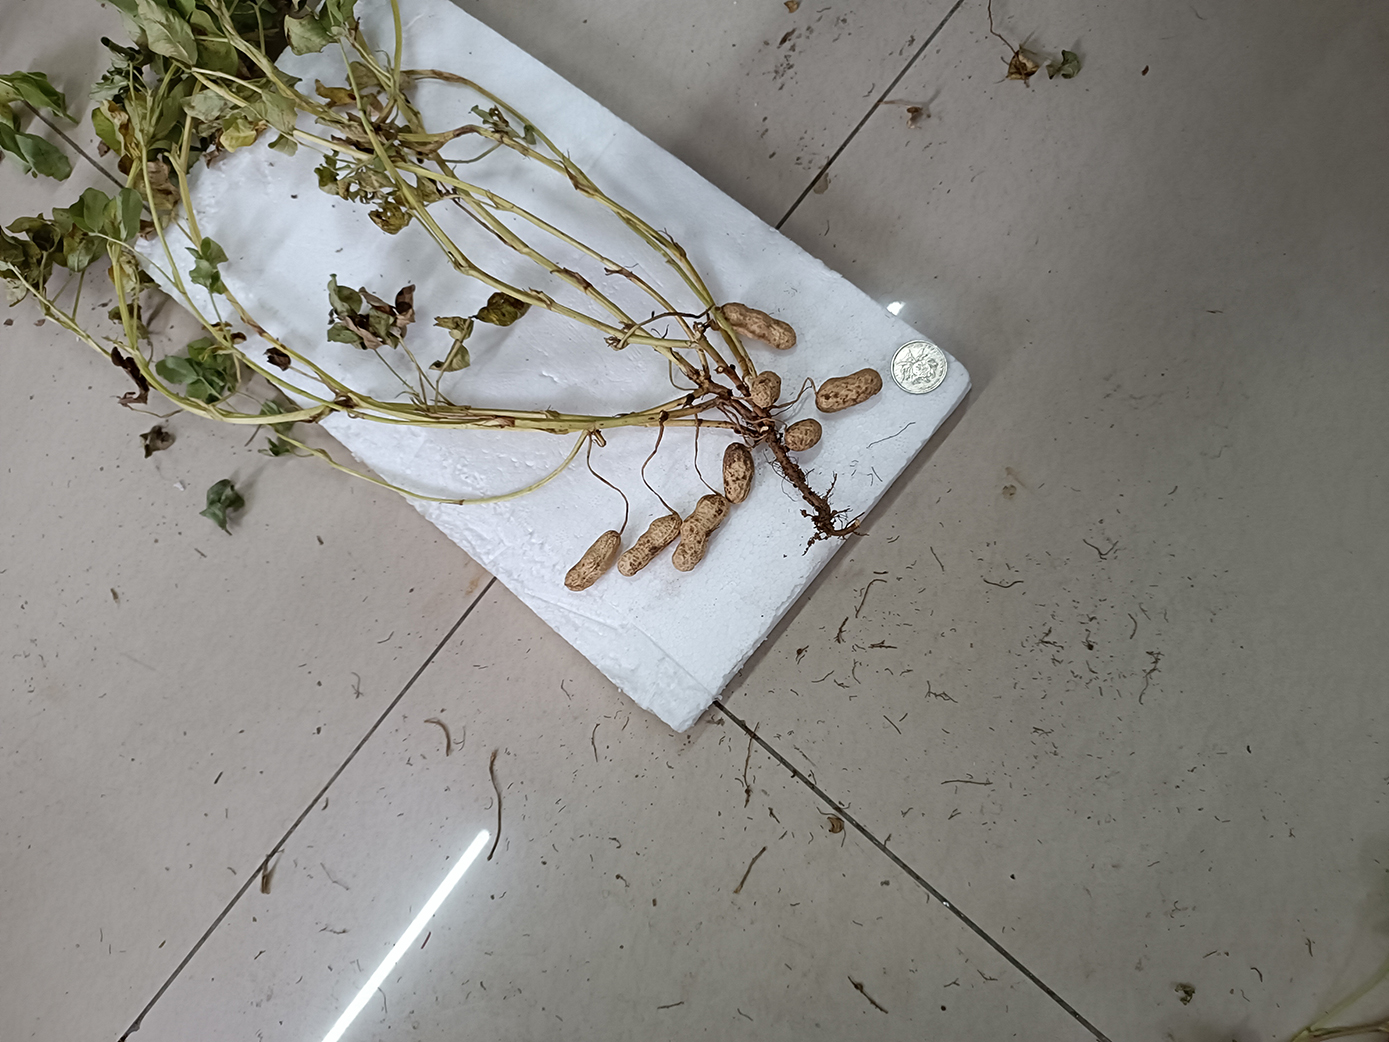h: (673, 494, 730, 571), (620, 513, 681, 577), (721, 302, 797, 349), (565, 530, 621, 591), (817, 367, 883, 413), (724, 442, 754, 503), (785, 417, 822, 450), (749, 371, 782, 408)
